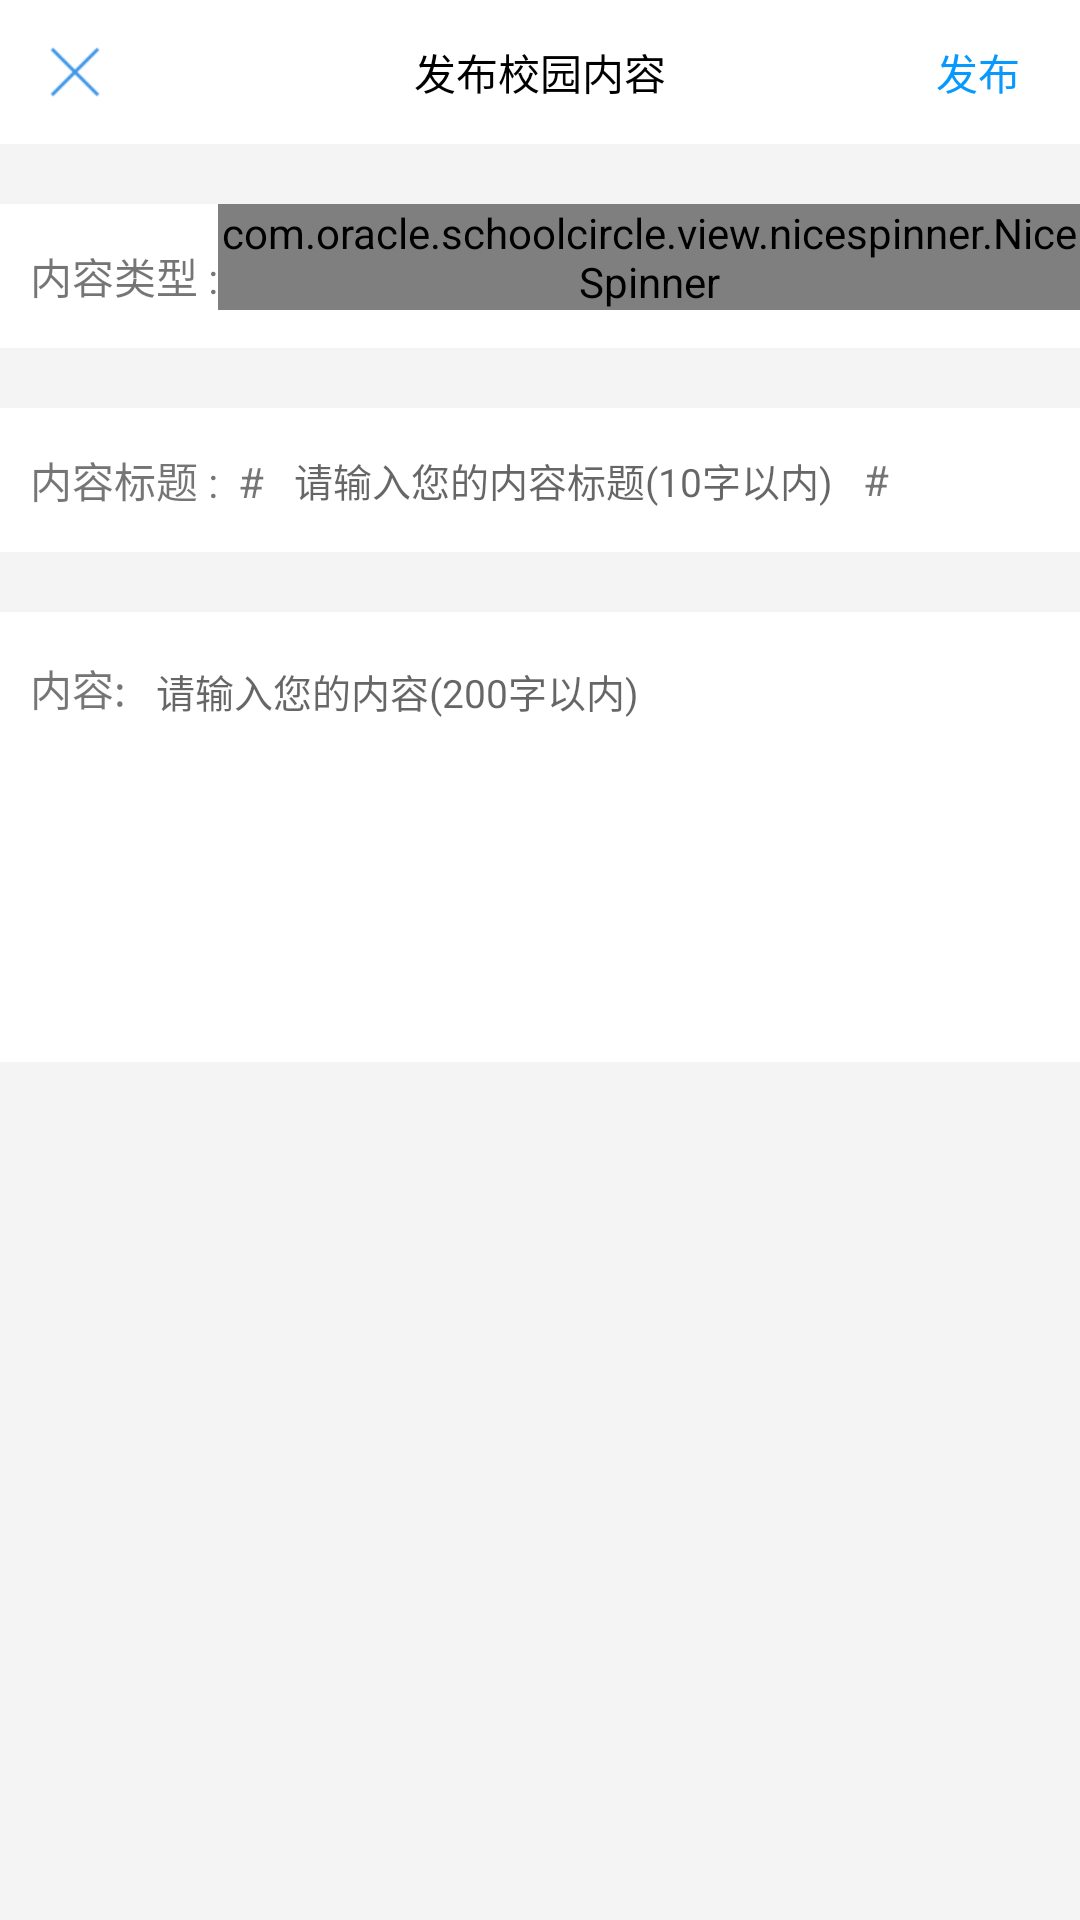

Point at icon controls on the screen. Image size 1080×1920, points as (x,y).
content close: (75,72)
